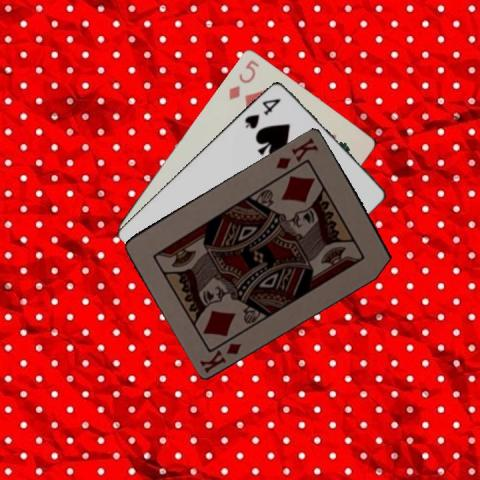4s: (241, 95, 282, 130)
5d: (225, 56, 261, 101)
Kd: (273, 134, 320, 171), (197, 339, 243, 374)
